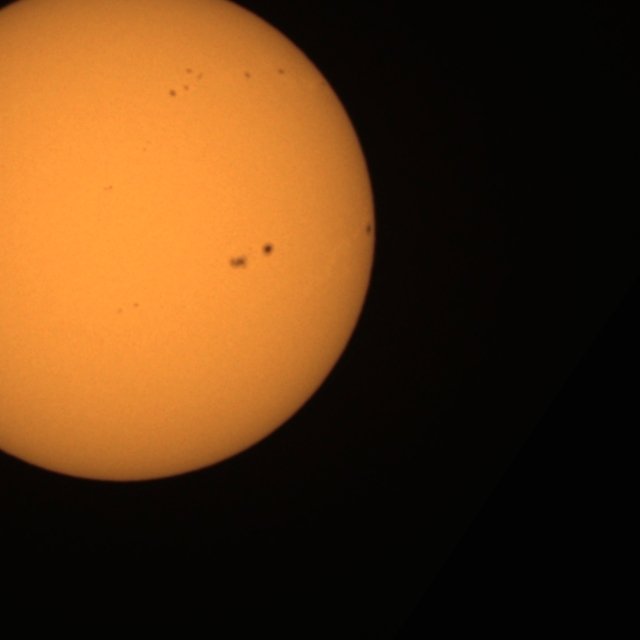sunspot: (167, 70, 199, 98), (178, 67, 204, 93), (227, 253, 249, 272), (116, 301, 140, 315), (260, 241, 276, 258), (364, 221, 374, 238), (167, 88, 178, 99), (276, 67, 286, 77), (102, 184, 114, 192), (243, 70, 252, 80), (131, 301, 140, 310)
